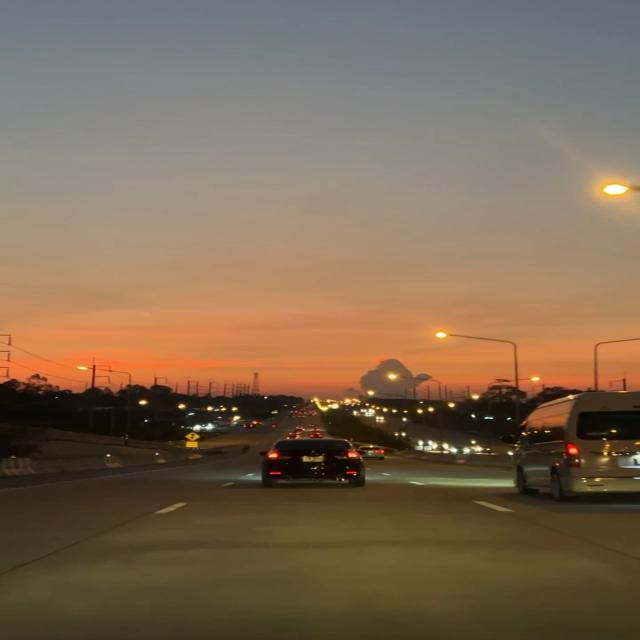Poth-hole: (0, 498, 640, 617)
